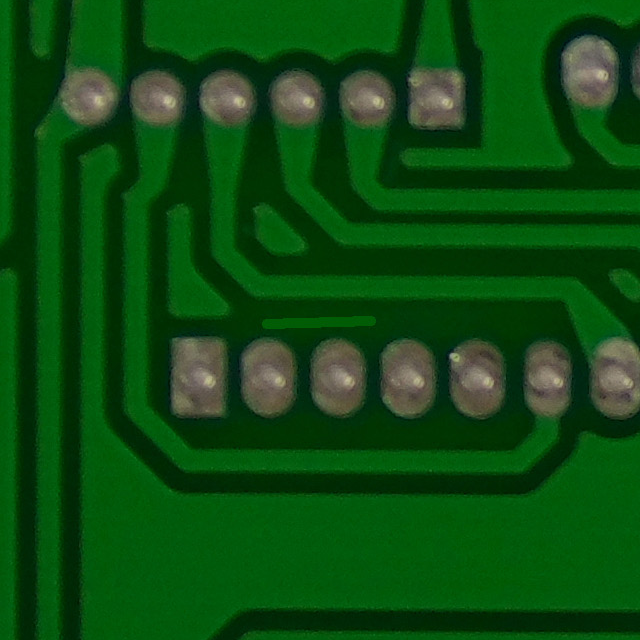spurious_copper: (242, 294, 398, 347)
